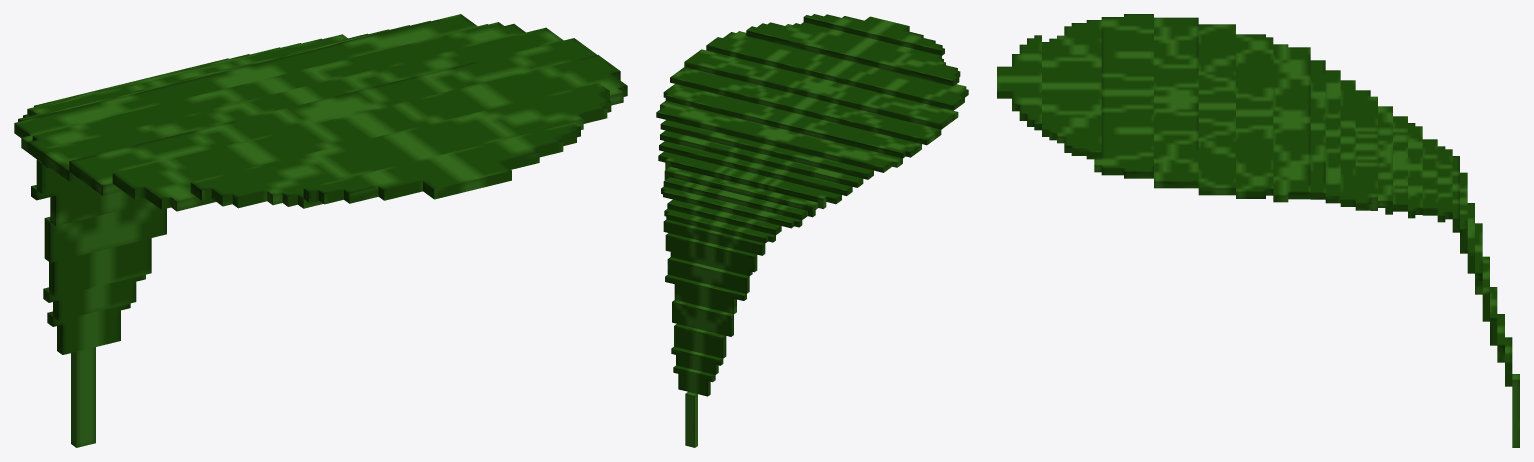
File: PlantaTrampolim.fbx
The picture shows the model from 3 angles, left to right: view 1: azimuth 30°, elevation 25°; view 2: azimuth 150°, elevation 25°; view 3: azimuth 270°, elevation 25°; orthographic projection. The views are drawn at different scales.
Parts seen in each view (by area): view 1: PlantaTrampolim; view 2: PlantaTrampolim; view 3: PlantaTrampolim.
Part boxes in pixels (x1,y1,x2,y2): PlantaTrampolim: [14, 14, 627, 447]; PlantaTrampolim: [656, 14, 968, 447]; PlantaTrampolim: [997, 14, 1519, 447].
Size of the model in its own units: 520 by 540 by 700.
